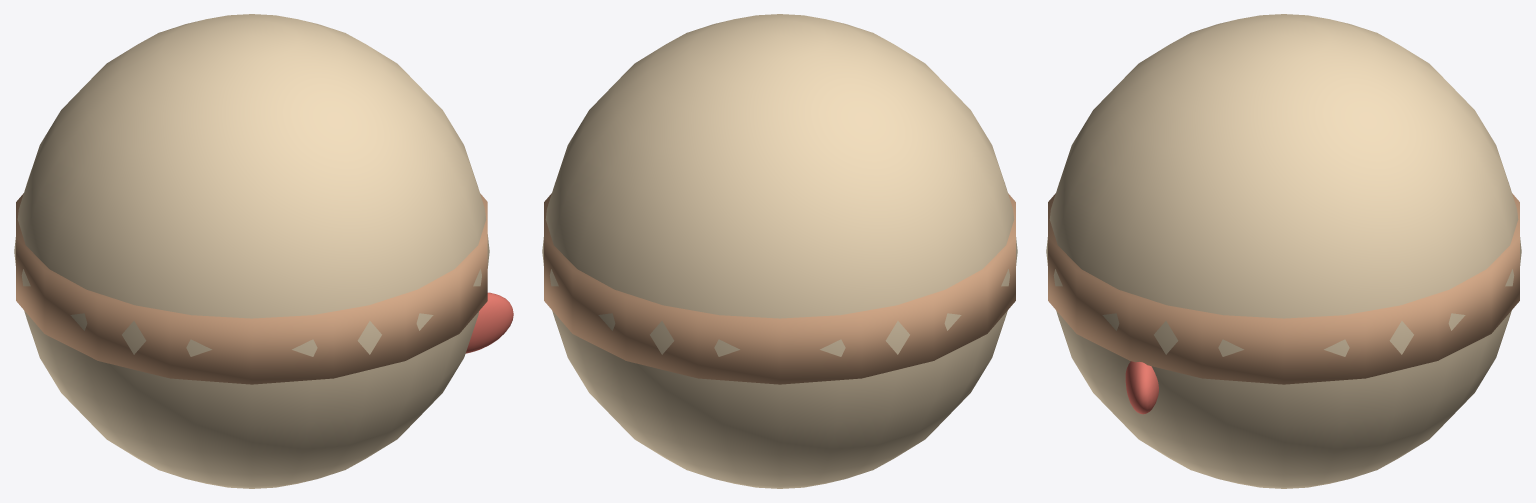
Rendered from jupiter.glb.
3 renders of one model, left to right at view 1: azimuth 30°, elevation 25°; view 2: azimuth 150°, elevation 25°; view 3: azimuth 270°, elevation 25°, orthographic.
Visible parts, largest first — view 1: gas_body, belt_node, spot_node; view 2: gas_body, belt_node; view 3: gas_body, belt_node, spot_node.
Boxes of the visible parts, bbox=[...] form: gas_body: bbox=[14, 14, 489, 488]; belt_node: bbox=[16, 193, 487, 384]; spot_node: bbox=[465, 292, 513, 353]; gas_body: bbox=[542, 14, 1017, 488]; belt_node: bbox=[544, 193, 1015, 384]; gas_body: bbox=[1046, 14, 1521, 488]; belt_node: bbox=[1048, 193, 1519, 384]; spot_node: bbox=[1125, 361, 1158, 414].
Size of the model in its own units: 2.72 by 2.7 by 2.7.
